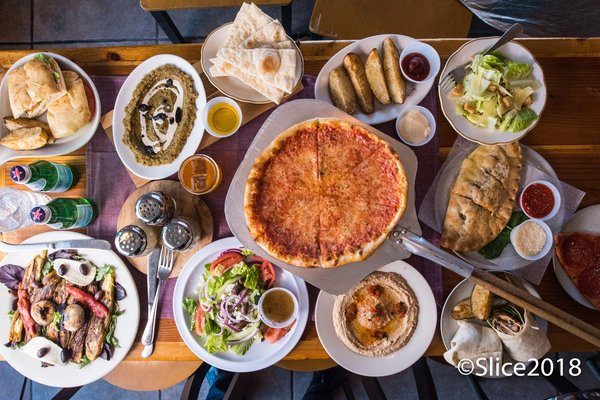burger: (141, 244, 175, 357), (140, 244, 164, 356)
pizza: (199, 95, 243, 139), (395, 104, 437, 147), (179, 154, 222, 195)
sandwich: (397, 226, 600, 351), (141, 244, 175, 357)
sushi: (437, 32, 548, 145), (111, 52, 204, 182), (0, 51, 101, 160), (519, 179, 566, 233)
